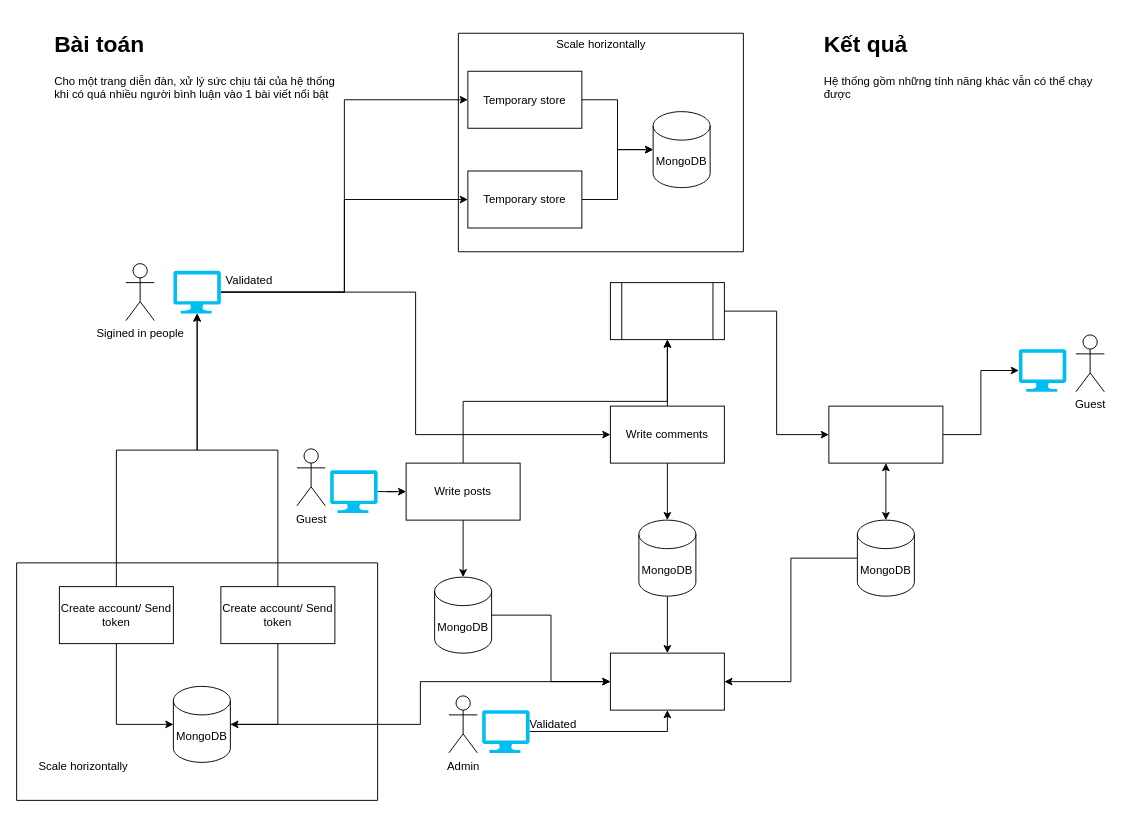
The diagram is 1131 pixels wide and 817 high, and some of its shapes have lost their labels. The shapes that lost their labels are listed below. From the top down, each one's centre as x and y in pixels, then its label:
At pixel 666 311: "Communicate interface".
At pixel 885 434: "Read post and comment".
At pixel 666 681: "Manage data".
